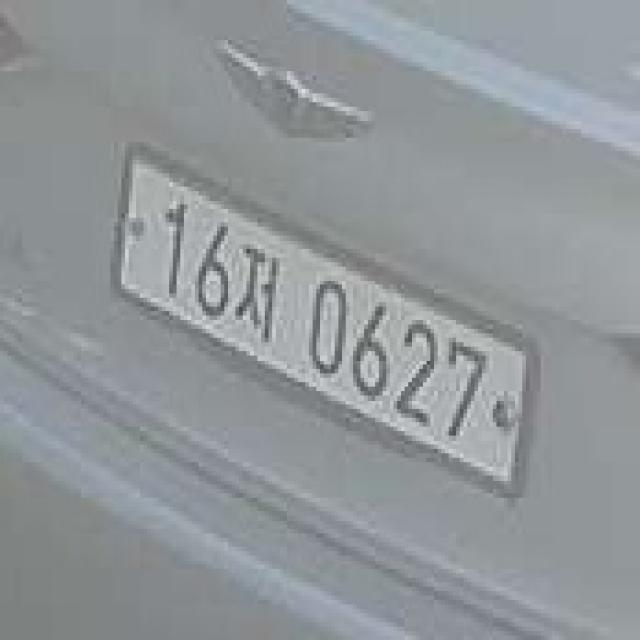0: (306, 267, 350, 382)
1: (154, 186, 192, 306)
2: (390, 306, 441, 436)
6: (192, 209, 236, 333), (349, 289, 390, 400)
7: (445, 329, 493, 449)
jeo: (239, 231, 283, 351)
license_plate: (99, 138, 541, 516)
